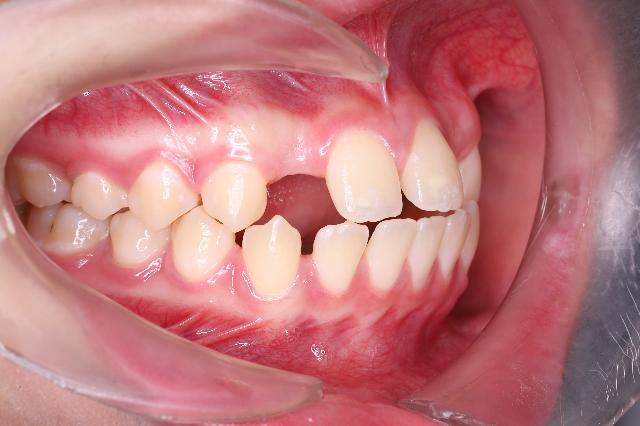canine class I: (172, 159, 304, 295)
molar class III 1/2: (4, 156, 110, 260)
